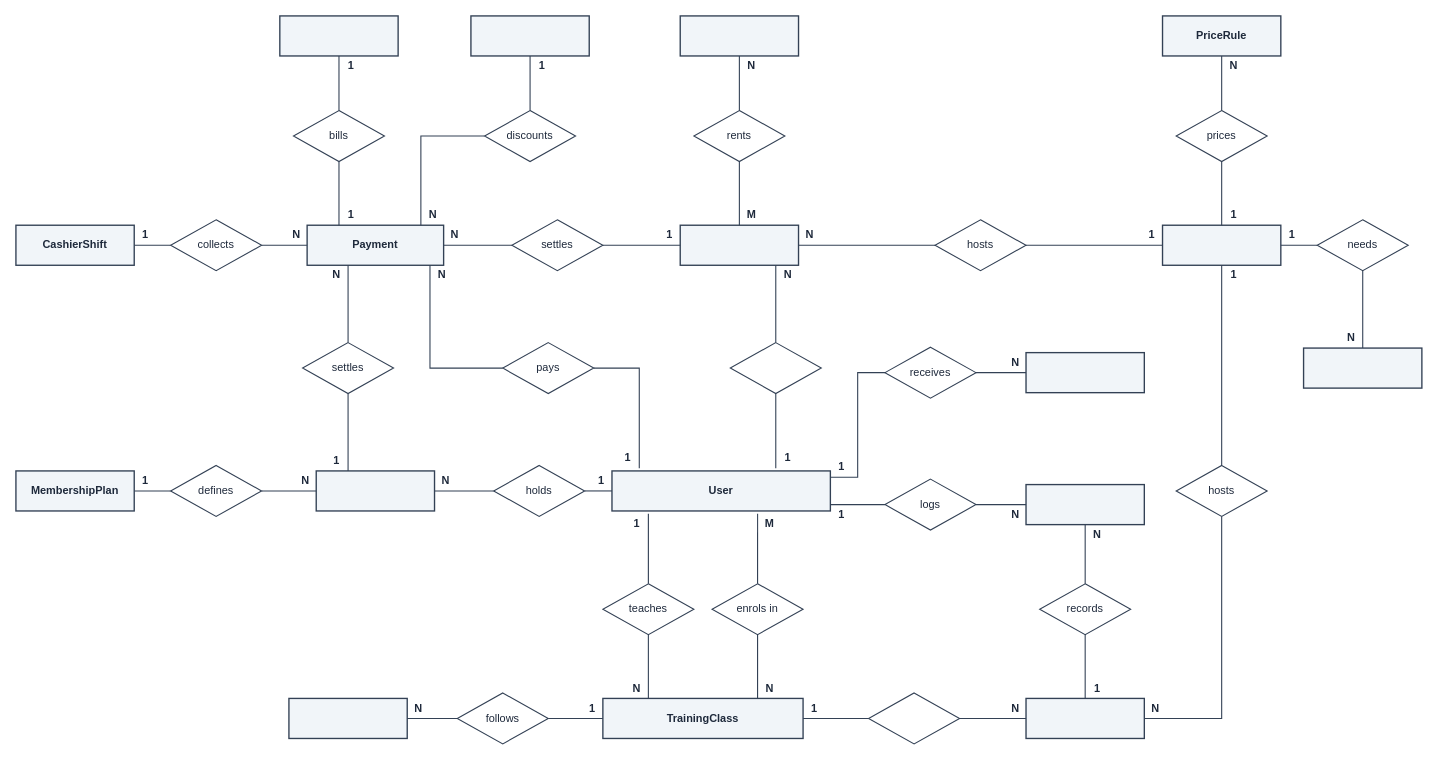
This 1439x761 diagram has some shape labels left out. Each missing label, with the centre of its shape:
"Attendance" goes at point 1085,504.
"ClassSession" goes at point 1085,718.
"Court" goes at point 1221,245.
"CourtBooking" goes at point 739,245.
"EquipmentItem" goes at point 739,35.
"has" goes at point 914,718.
"Invoice" goes at point 338,35.
"makes" goes at point 775,368.
"ProgressReview" goes at point 1085,372.
"Promotion" goes at point 529,35.
"Subscription" goes at point 375,490.
"TrainingPlan" goes at point 347,718.
"WorkOrder" goes at point 1362,367.
